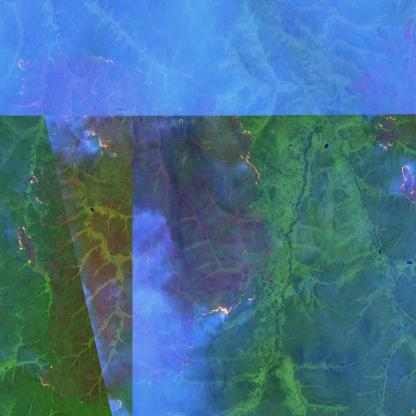fire: (70, 48, 154, 88), (192, 281, 261, 321), (368, 110, 410, 160), (239, 117, 265, 193), (81, 126, 126, 162), (398, 158, 416, 210), (16, 51, 32, 106), (35, 363, 59, 395)
